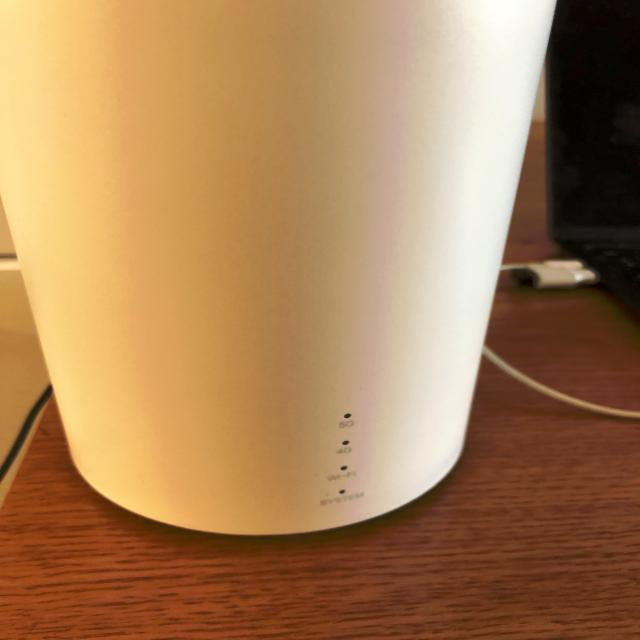modem: (0, 0, 550, 535)
off: (336, 402, 358, 426), (332, 485, 355, 501), (336, 461, 356, 476), (336, 436, 353, 451)
